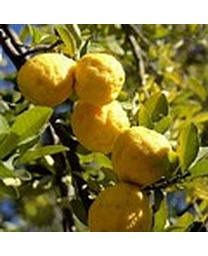lemon: (113, 126, 173, 186), (17, 53, 79, 108), (72, 100, 131, 156), (91, 186, 155, 233), (74, 52, 124, 108)
